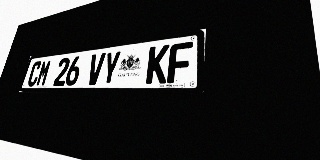2: (53, 57, 71, 86)
6: (64, 56, 83, 86)
C: (26, 61, 42, 87)
F: (167, 41, 193, 83)
K: (145, 44, 170, 84)
M: (35, 60, 52, 86)
V: (86, 53, 106, 85)
Y: (100, 51, 121, 85)
